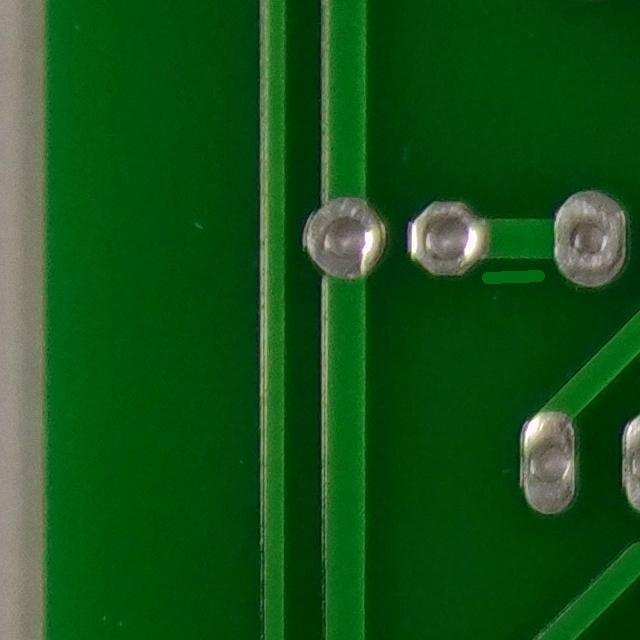spurious_copper: (455, 248, 557, 304)
